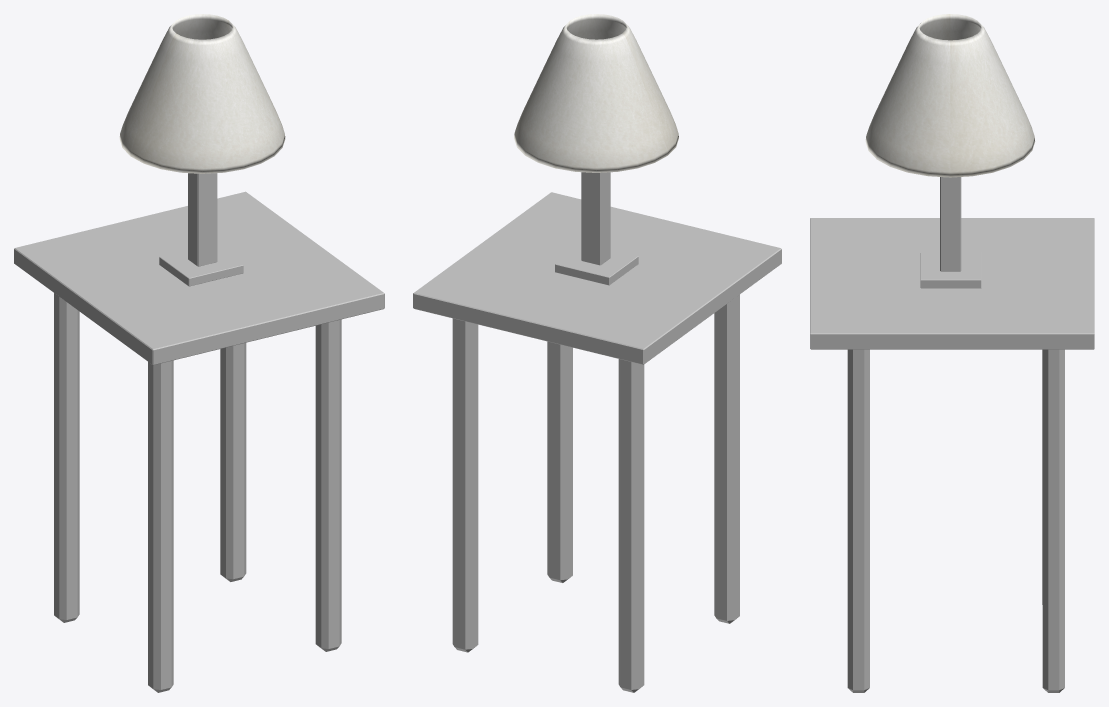
File: LampOnTable2.fbx
3 renders of one model, left to right at view 1: azimuth 30°, elevation 25°; view 2: azimuth 150°, elevation 25°; view 3: azimuth 270°, elevation 25°, orthographic. The views are drawn at different scales.
Visible parts, largest first — view 1: Table, LampShade, pasted__pCube2 (×2), TableLeg, pasted__pasted__pCube2, LampPose, LampBase; view 2: Table, LampShade, pasted__pCube2 (×2), pasted__pasted__pCube2, TableLeg, LampPose, LampBase; view 3: Table, LampShade, pasted__pCube2, pasted__pasted__pCube2, LampPose, LampBase.
Boxes of the visible parts, x1,y1,x2,y2 form: Table: [14, 191, 384, 365]; LampShade: [119, 14, 285, 173]; pasted__pCube2 (×2): [54, 293, 341, 651]; TableLeg: [148, 360, 173, 692]; pasted__pasted__pCube2: [220, 343, 246, 581]; LampPose: [188, 173, 217, 266]; LampBase: [159, 246, 243, 286]; Table: [413, 192, 781, 364]; LampShade: [514, 14, 678, 172]; pasted__pCube2 (×2): [547, 341, 644, 692]; pasted__pasted__pCube2: [452, 318, 478, 652]; TableLeg: [714, 294, 739, 623]; LampPose: [581, 172, 610, 265]; LampBase: [555, 245, 638, 285]; Table: [810, 218, 1094, 349]; LampShade: [865, 14, 1035, 177]; pasted__pCube2: [847, 349, 869, 692]; pasted__pasted__pCube2: [1042, 349, 1064, 692]; LampPose: [940, 177, 961, 271]; LampBase: [920, 252, 981, 288].
Size of the model in its own units: 8.58 by 21.47 by 8.9.
